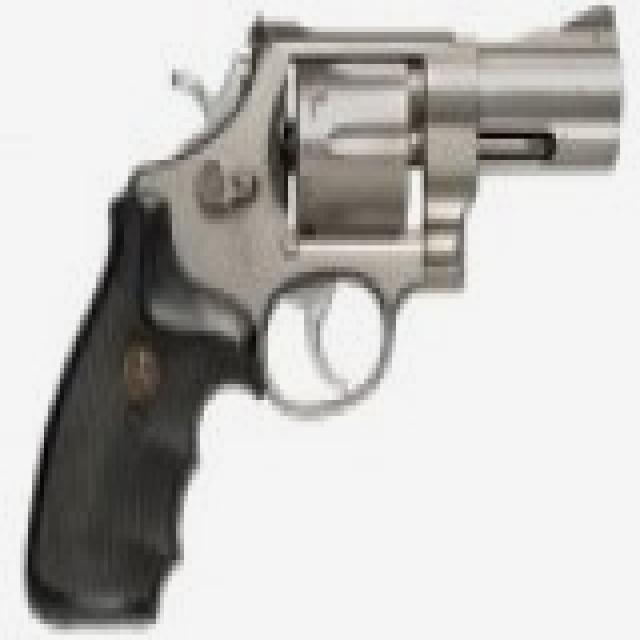pistol: (32, 0, 612, 619)
